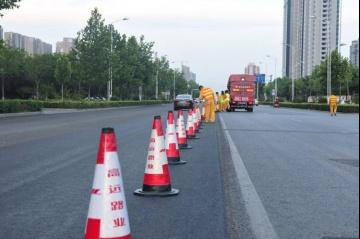cone_barrel: (75, 126, 138, 238), (136, 116, 174, 198), (162, 108, 181, 164), (175, 109, 187, 147), (185, 107, 194, 137)
